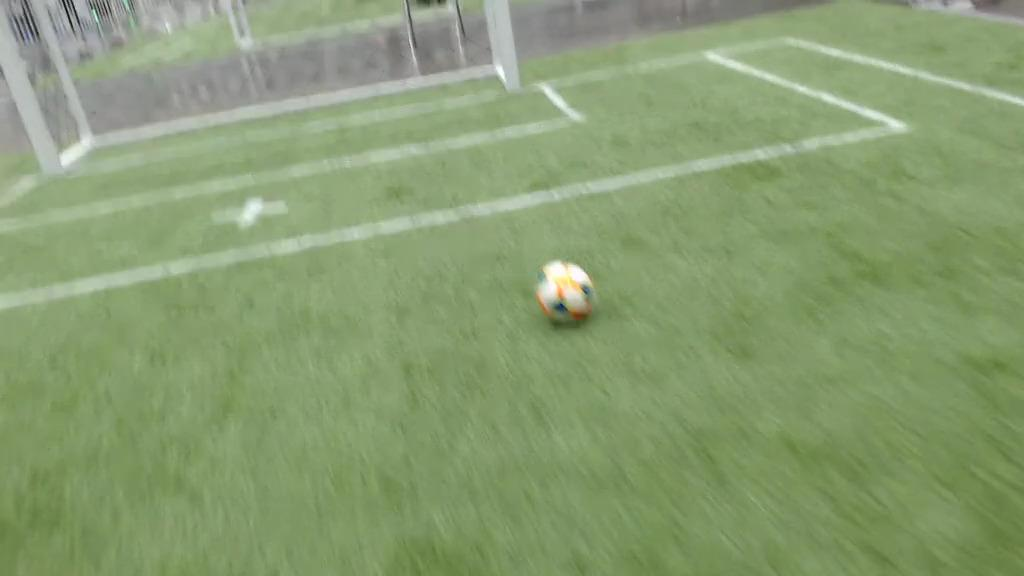ball: (536, 261, 596, 324)
